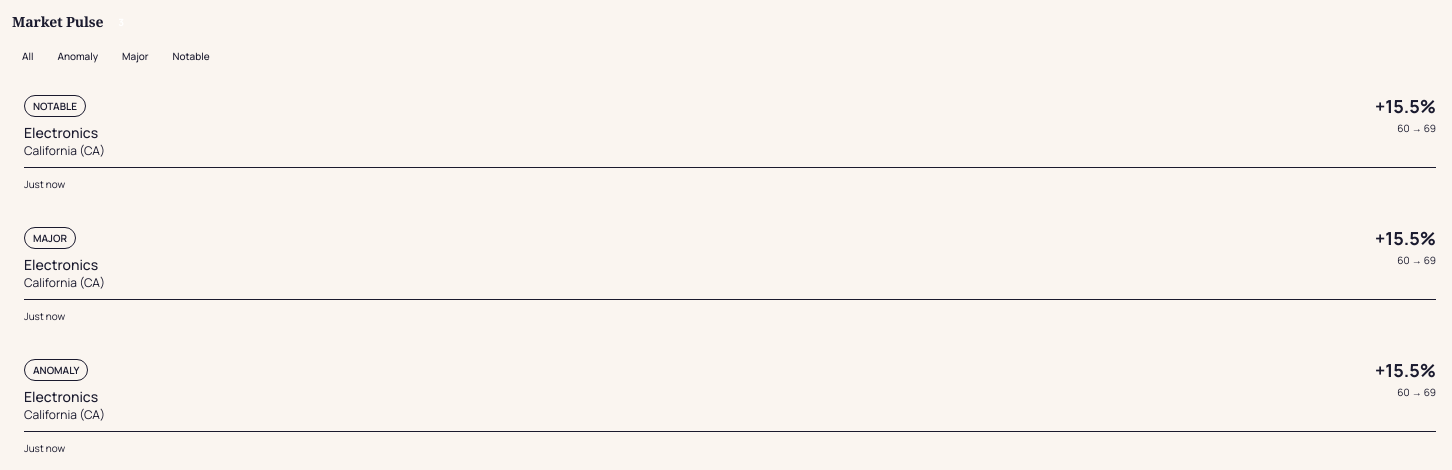
Test case: PulseFeed › filters by severity when tab clicked
The width and height of the screenshot is (1452, 470).
Click the button with test id "tab-major" at (135, 56), box [112, 44, 159, 68]
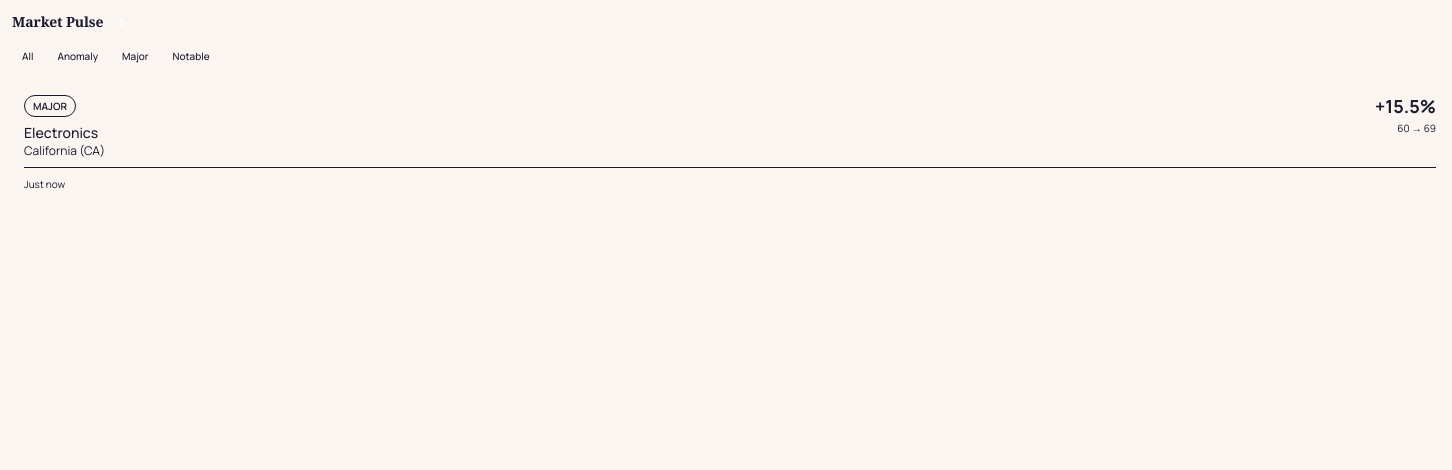
Result: the number of elements with test id "pulse-event-card" is 1 at [12, 80, 1448, 204]
